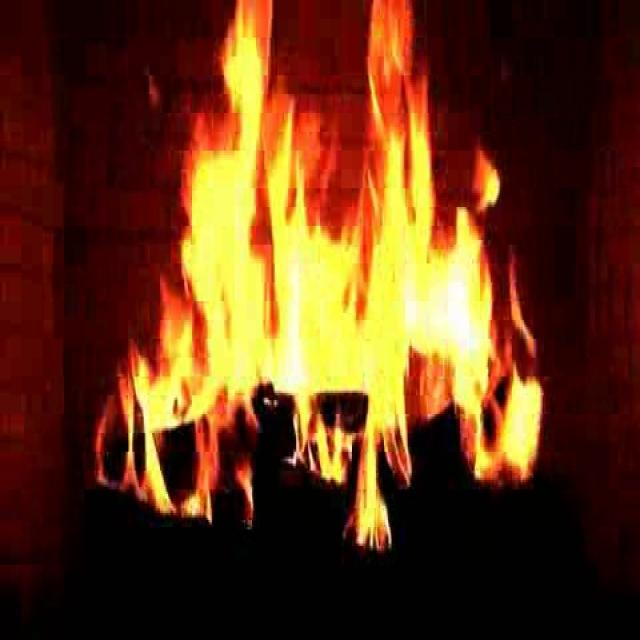fire: (143, 21, 553, 502)
